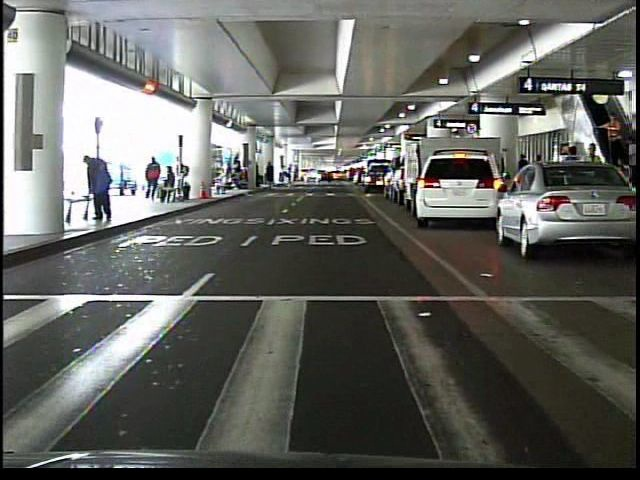person: (81, 150, 116, 226), (597, 111, 624, 163), (620, 135, 639, 191), (215, 167, 231, 201), (280, 162, 295, 192)
